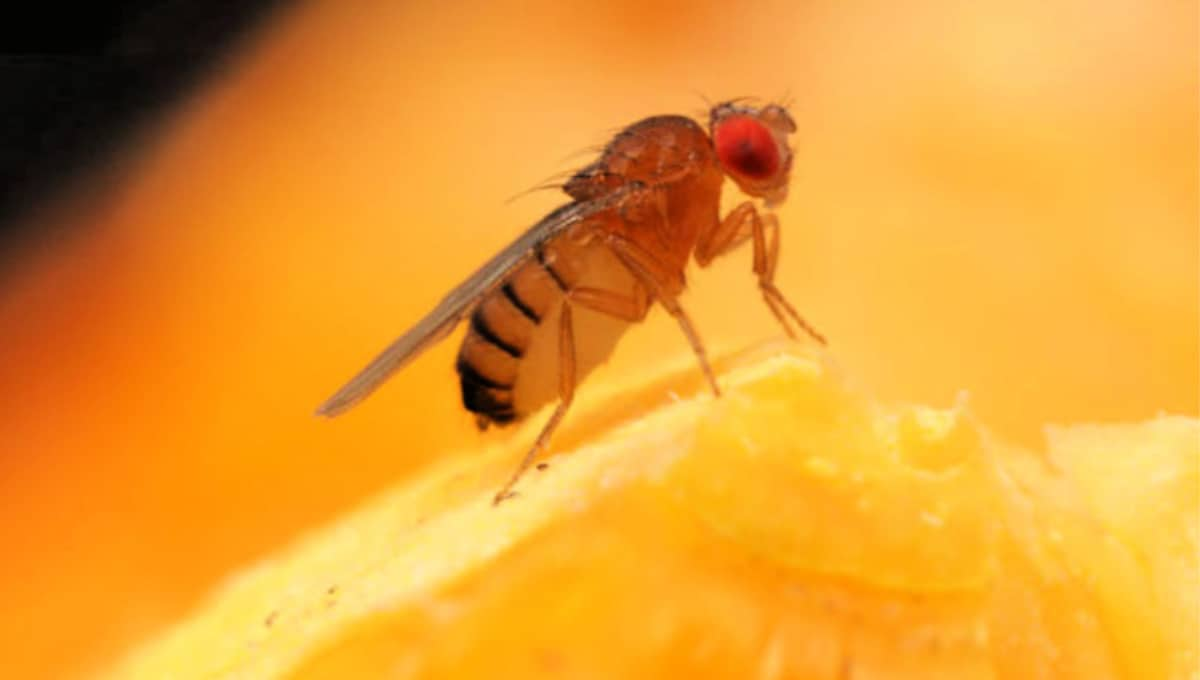Fruit fly: (380, 78, 820, 518)
